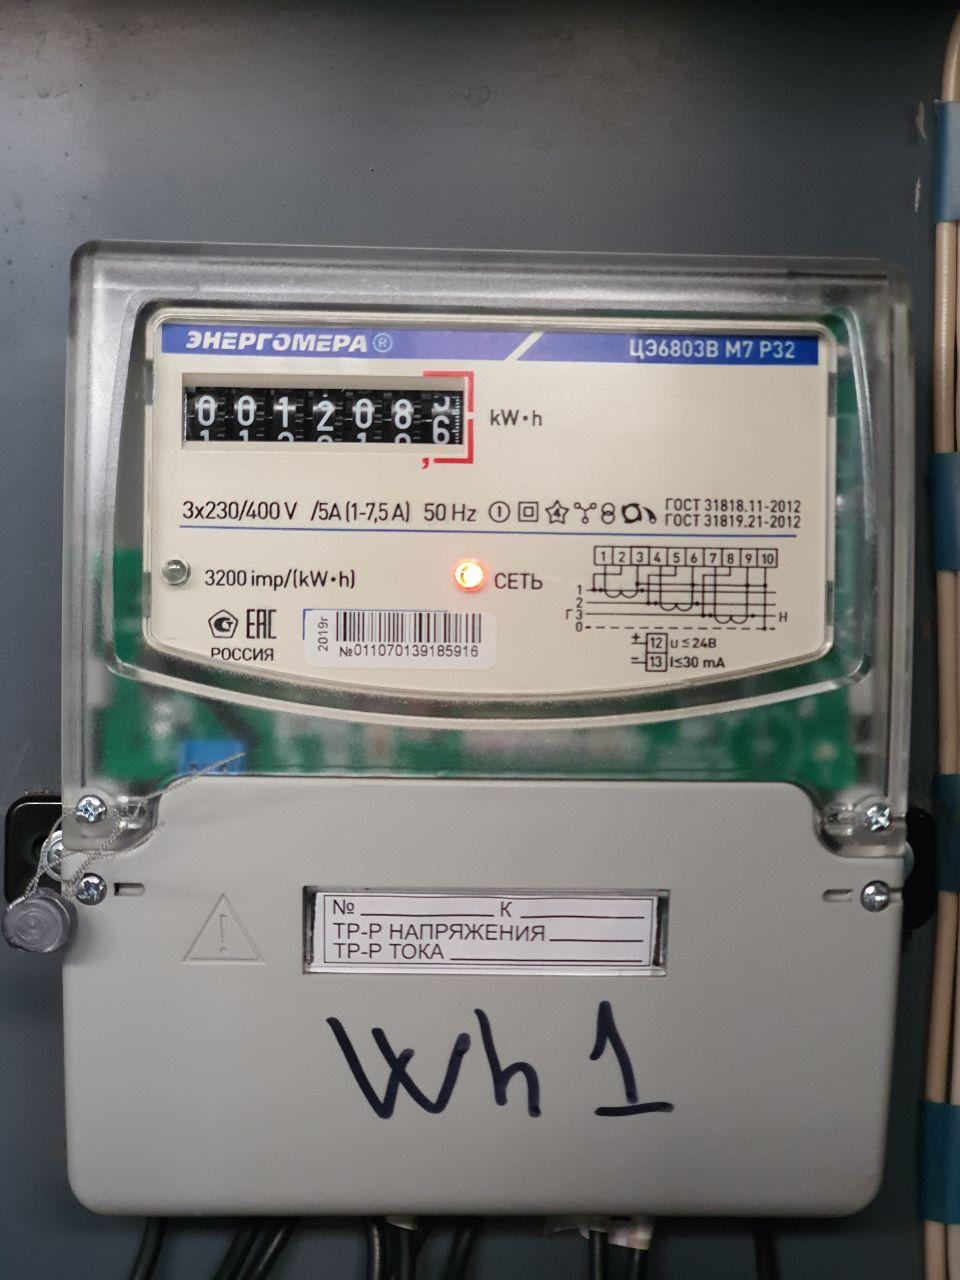counter: (55, 233, 928, 1237)
counter_screen: (175, 366, 471, 461)
